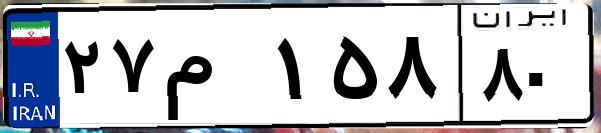0: (525, 38, 570, 115)
1: (270, 28, 330, 110)
2: (57, 26, 110, 100)
5: (330, 28, 385, 110)
7: (110, 28, 158, 98)
8: (385, 28, 445, 110), (475, 38, 525, 113)
م: (158, 20, 270, 120)
